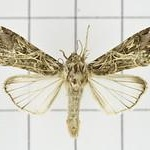Spodoptera litura: (0, 24, 149, 138)
